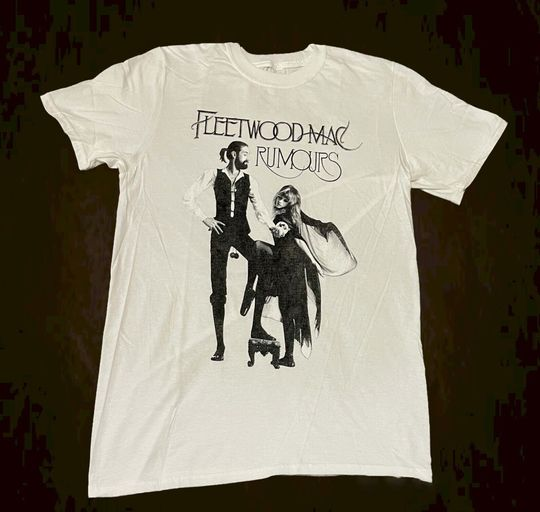design: (188, 107, 366, 372)
